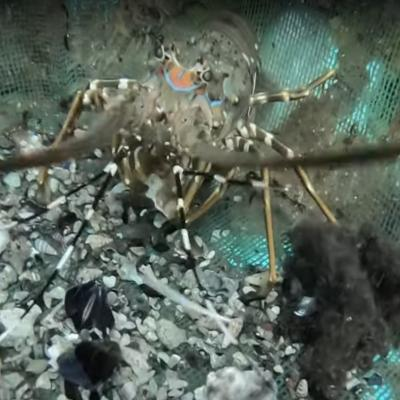lobster: (119, 13, 260, 219)
